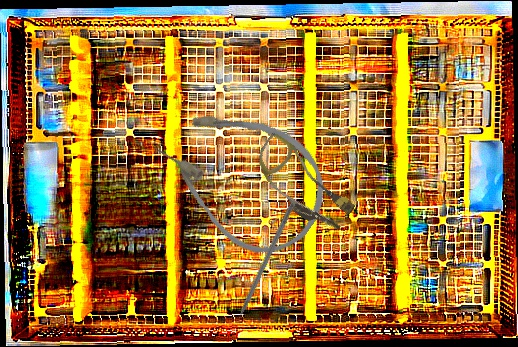Cannula: (138, 77, 348, 275), (242, 131, 364, 239)
Hook Surgical: (227, 200, 297, 337)
